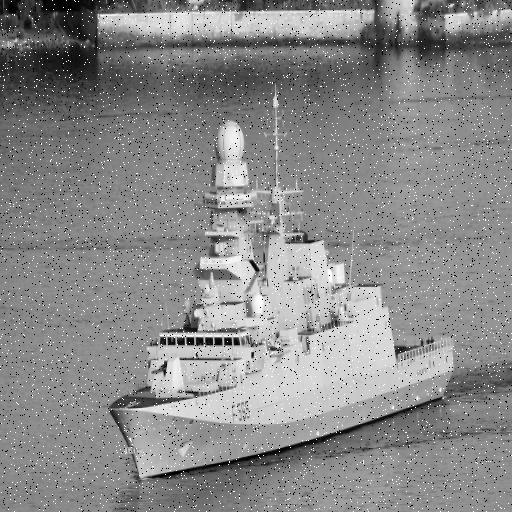Fragata: (106, 86, 458, 487)
